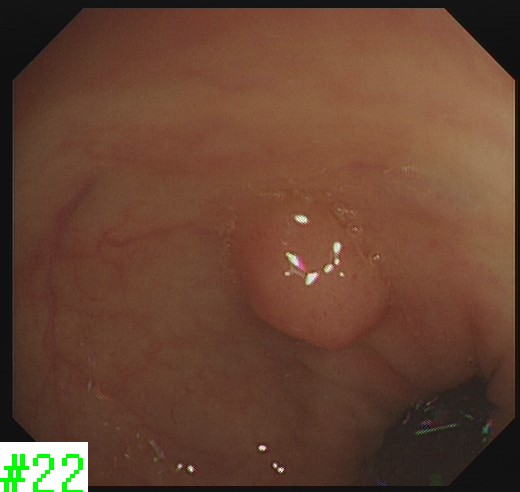adenoma: (228, 190, 392, 353)
